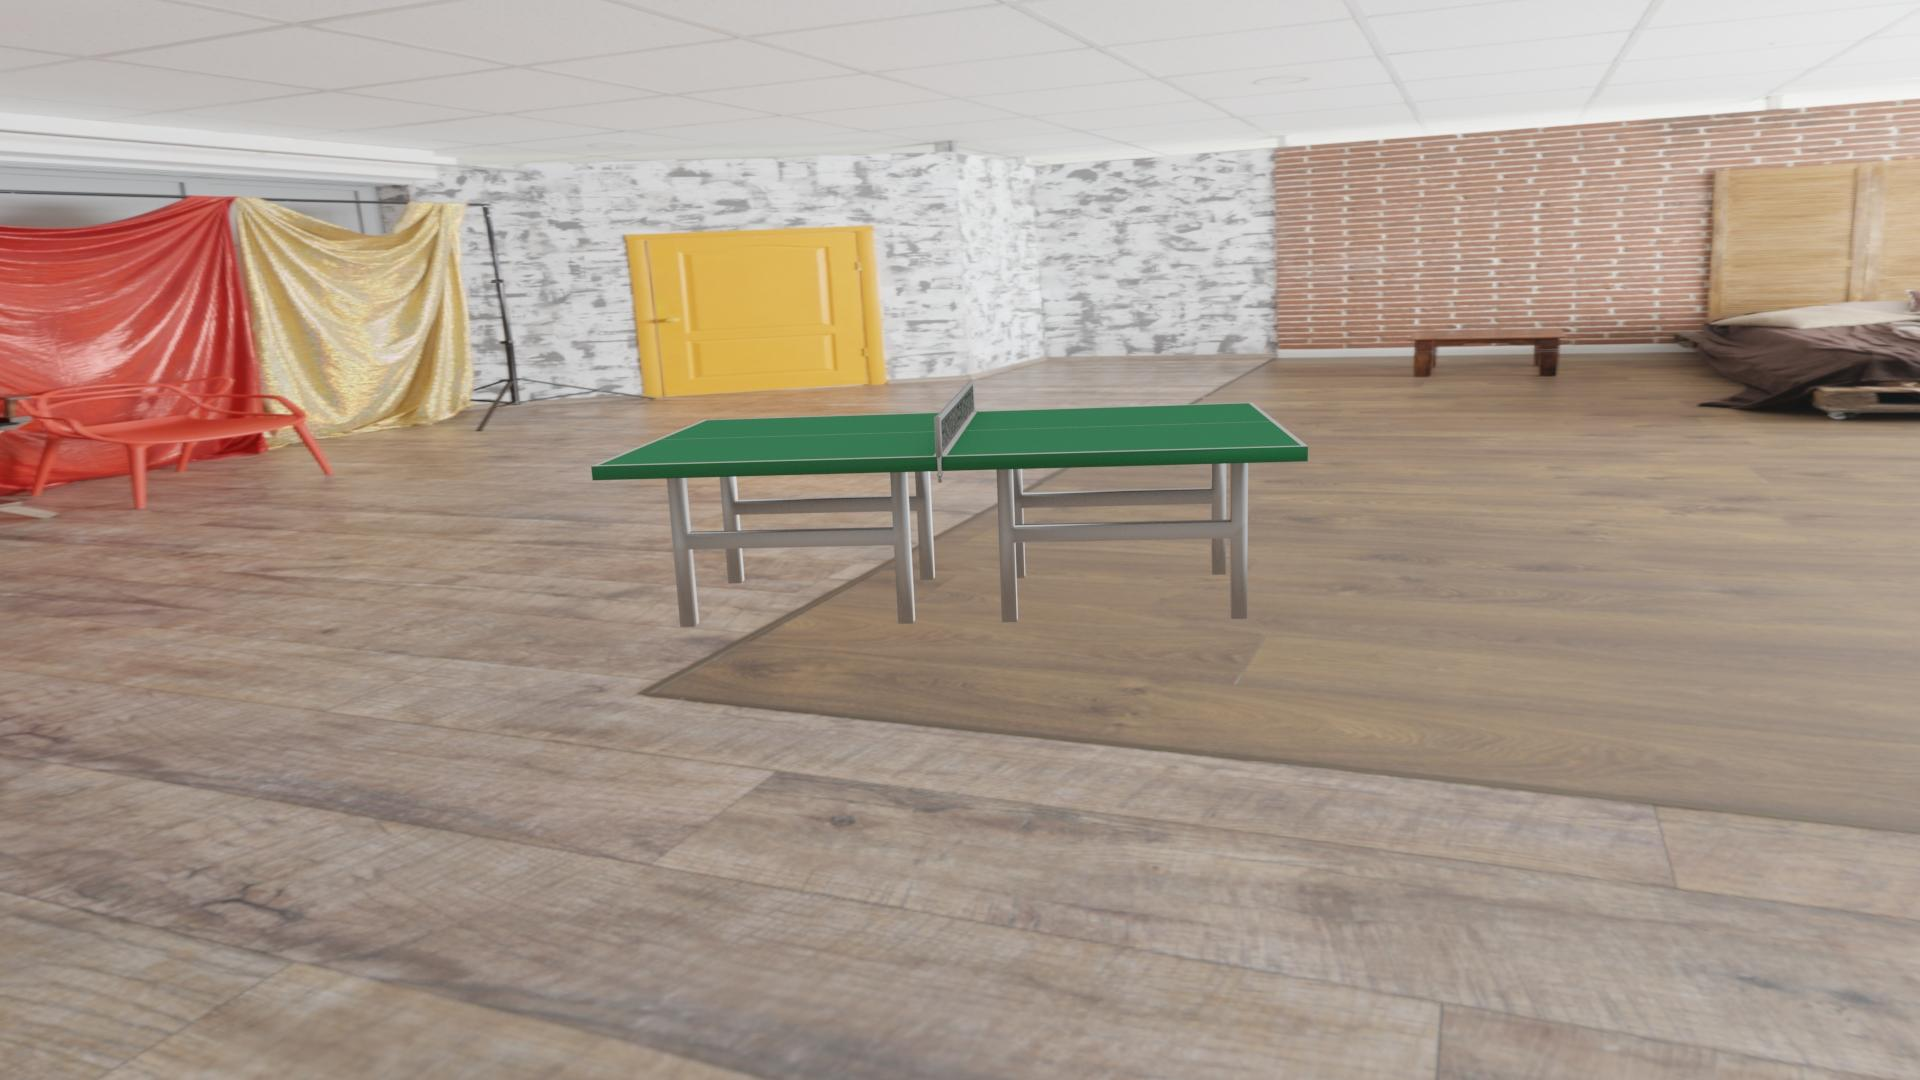table: (597, 404, 1302, 465)
